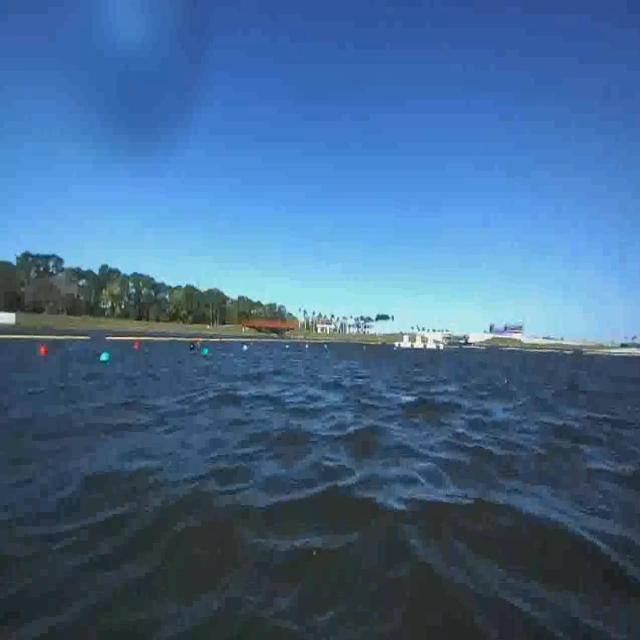green-buoy: (98, 351, 110, 364)
red-buoy: (39, 346, 48, 357)
